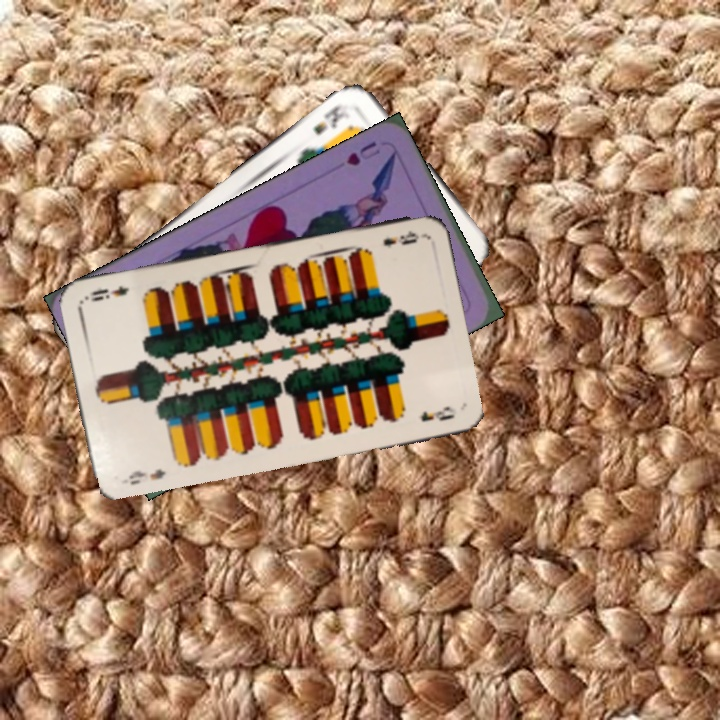E9: (124, 465, 169, 488), (379, 226, 422, 249)
EK: (309, 99, 353, 138)
HU: (342, 137, 383, 169)
